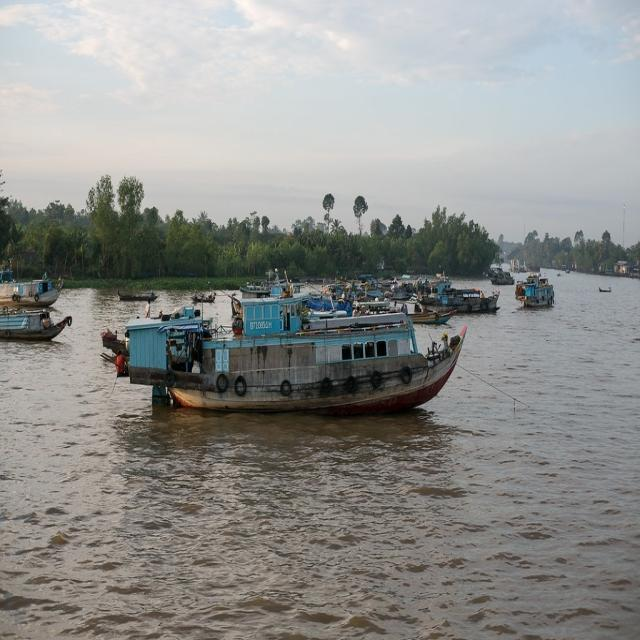boat: (150, 333, 469, 414), (438, 288, 504, 314), (524, 282, 550, 310), (116, 290, 158, 302), (190, 290, 215, 305), (490, 270, 512, 287), (596, 288, 614, 292)
